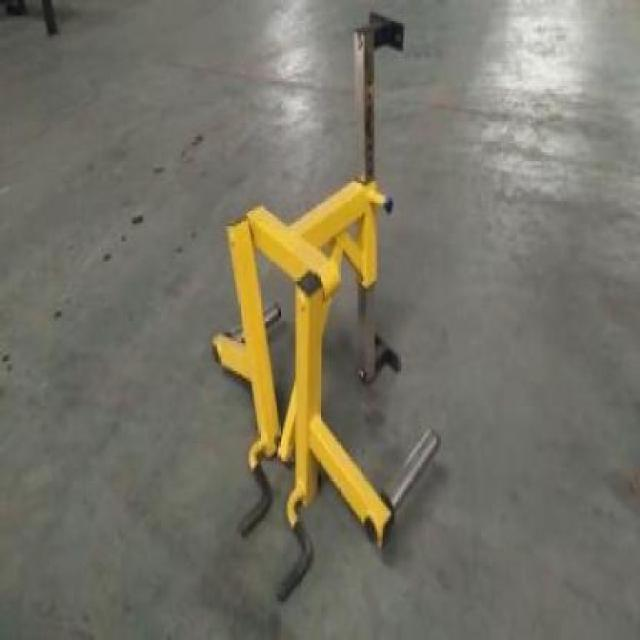lateral raises machine: (212, 11, 440, 600)
